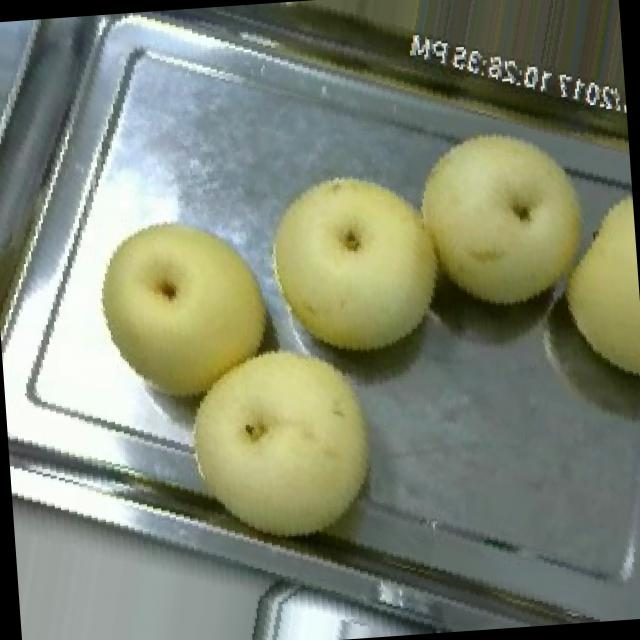Fruit: (150, 310, 417, 574), (243, 144, 472, 384), (394, 94, 616, 341), (68, 190, 296, 428), (532, 164, 640, 416)
